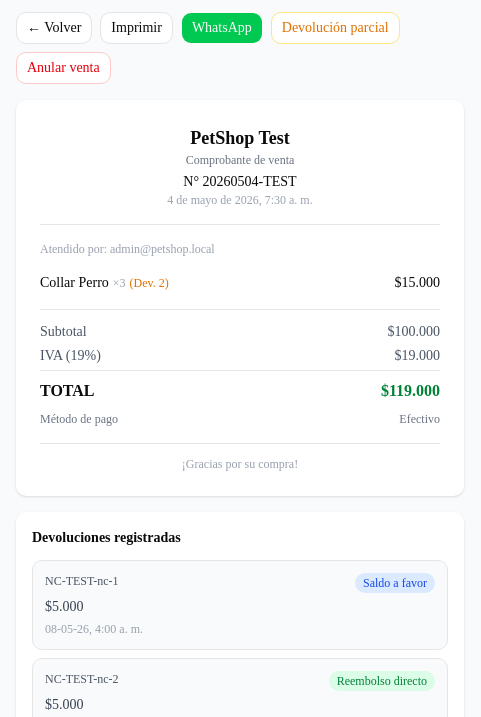
SalesTicketPage — anulación de venta (VT-01 a VT-08) › VT-08: sin NC activa con saldo a favor (sin NC, NC usada, o NC de reembolso directo), la confirmación NO muestra advertencia
Expected: the text "Collar Perro" is shown, [40,275,109,290]
Click the button "Anular venta" at (63, 68), box [16,52,111,84]
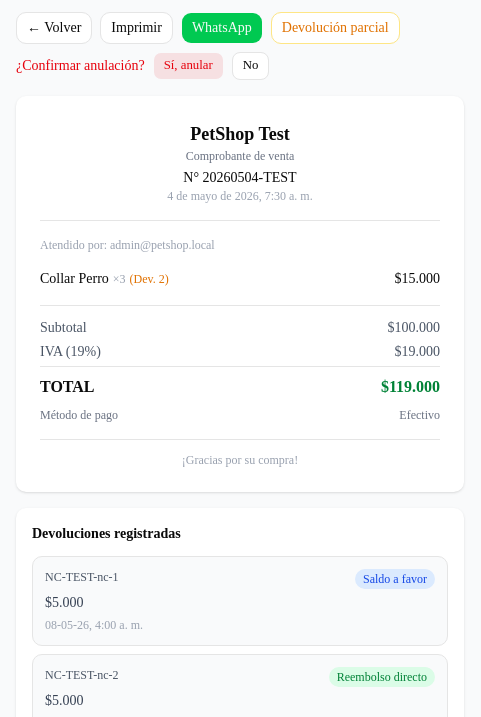
Result: the text "¿Confirmar anulación?" is shown at [16,56,145,76]
